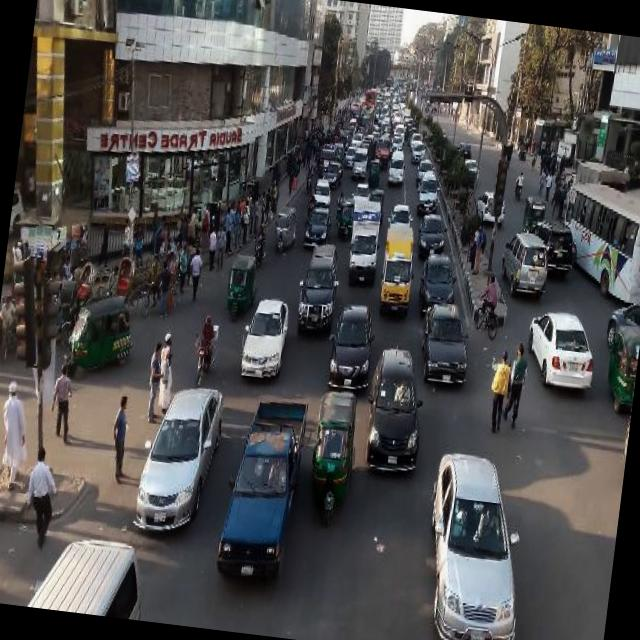bus: (551, 178, 640, 309), (377, 224, 421, 316), (357, 101, 377, 135), (348, 96, 364, 122), (363, 85, 378, 106), (384, 88, 394, 103)
car: (414, 445, 538, 640), (132, 375, 228, 539), (360, 339, 430, 479), (523, 304, 603, 392), (324, 300, 378, 396), (520, 213, 578, 279), (417, 209, 450, 256), (304, 204, 334, 246), (476, 188, 508, 225), (386, 200, 415, 229), (322, 158, 346, 186), (464, 155, 481, 177), (412, 140, 428, 162), (458, 140, 474, 160), (392, 134, 407, 153), (351, 130, 364, 144), (378, 112, 388, 124), (425, 111, 434, 122)
motorcycle: (302, 380, 366, 533), (60, 288, 142, 382), (139, 244, 188, 322), (600, 318, 640, 411), (222, 250, 260, 322), (99, 252, 143, 310), (191, 311, 223, 387), (272, 202, 300, 256), (72, 258, 100, 306), (522, 193, 548, 231), (251, 222, 271, 268), (337, 198, 355, 241), (368, 187, 388, 220), (367, 157, 382, 186), (514, 167, 526, 202), (408, 126, 419, 146)
truck: (214, 390, 310, 578), (23, 528, 154, 615), (294, 238, 344, 332), (344, 194, 386, 287), (564, 158, 632, 215), (498, 230, 553, 299), (416, 168, 444, 214), (371, 134, 393, 172), (310, 176, 334, 208), (388, 147, 408, 185), (350, 143, 370, 181), (318, 140, 338, 174), (351, 178, 372, 202), (394, 120, 408, 141), (409, 131, 424, 148), (382, 115, 392, 132), (348, 116, 359, 131), (404, 116, 414, 131), (393, 114, 402, 128), (402, 106, 412, 118)
